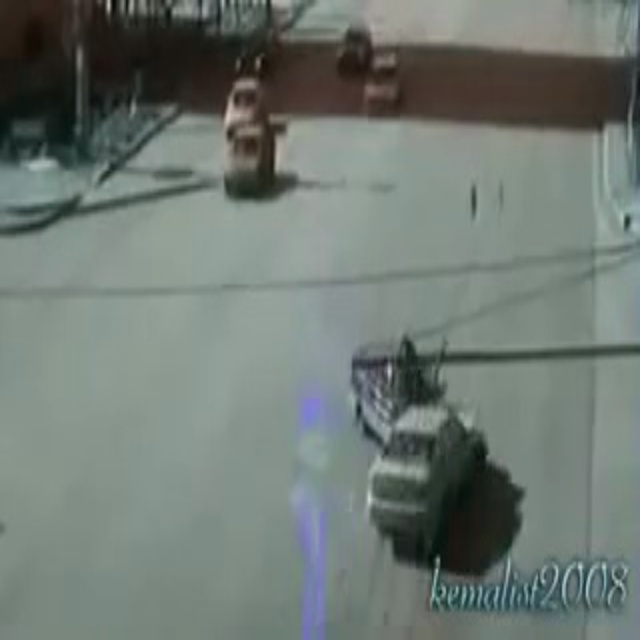acc: (336, 327, 491, 548)
